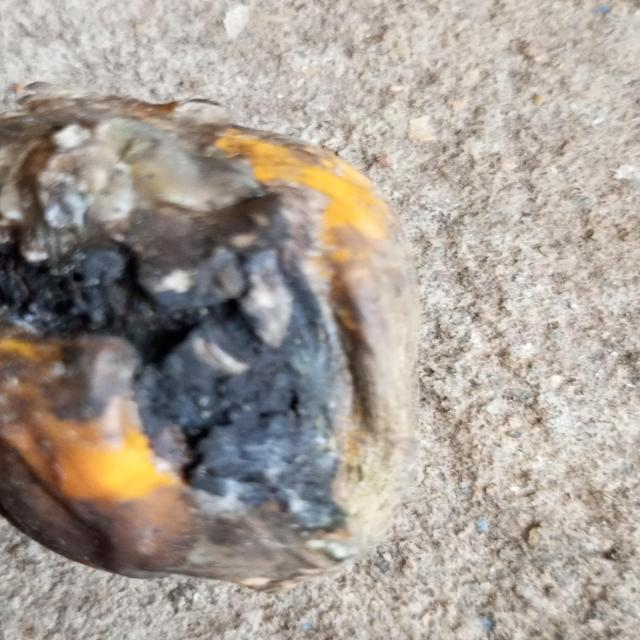damaged: (0, 83, 412, 590)
